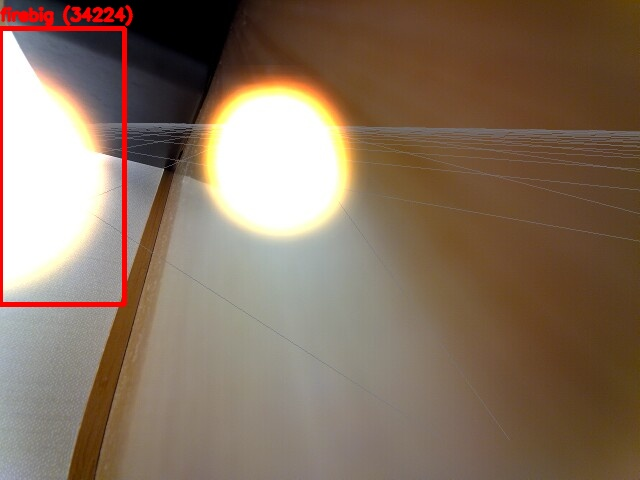firebig: (0, 28, 124, 304)
